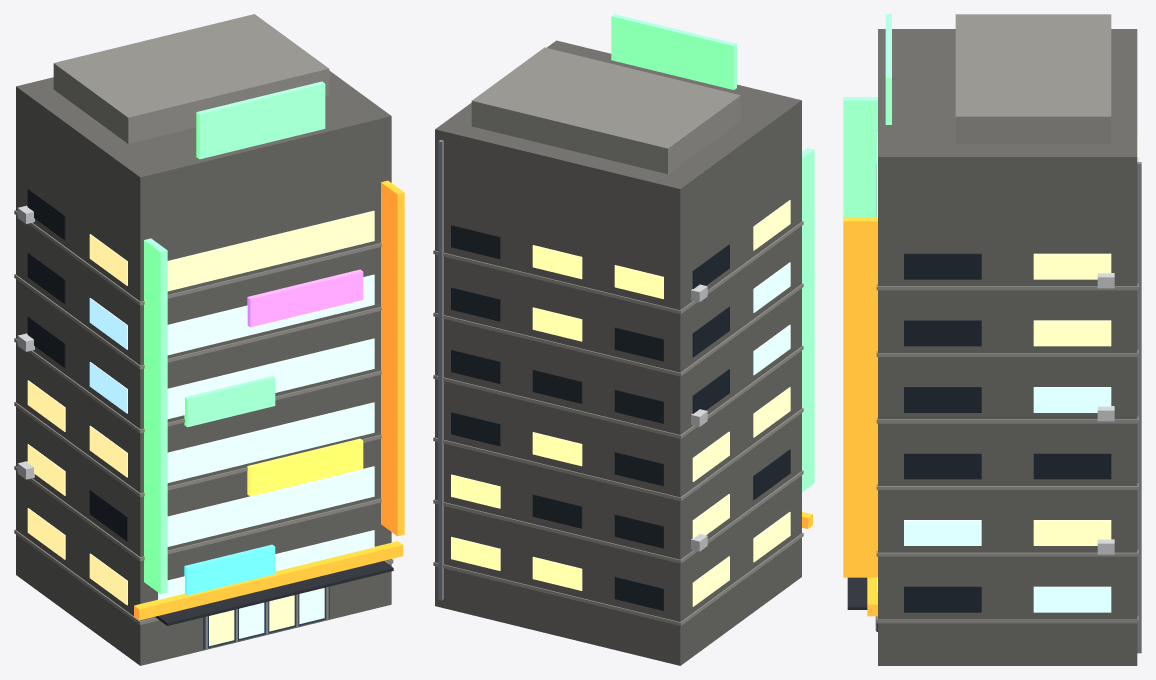
The model's file is neonhus_1.glb.
3 views of the same model, side by side, from view 1: azimuth 30°, elevation 25°; view 2: azimuth 150°, elevation 25°; view 3: azimuth 270°, elevation 25° (orthographic). The views are drawn at different scales.
Parts seen in each view (by area): view 1: neonhus_1; view 2: neonhus_1; view 3: neonhus_1.
Boxes of the visible parts, x1,y1,x2,y2 form: neonhus_1: (14, 14, 404, 665); neonhus_1: (433, 14, 814, 665); neonhus_1: (843, 14, 1141, 665).
Size of the model in its own units: 15 by 28.4 by 13.8.
